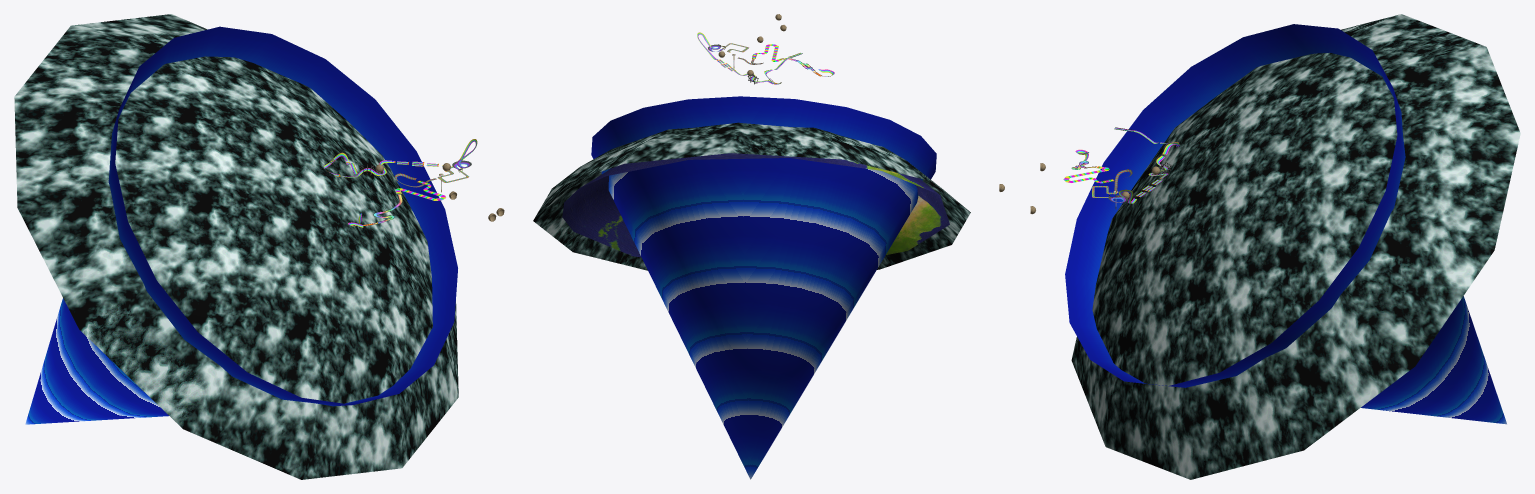
3 views of the same model, side by side, from view 1: azimuth 30°, elevation 25°; view 2: azimuth 150°, elevation 25°; view 3: azimuth 270°, elevation 25° (orthographic). The views are drawn at different scales.
Visible parts, largest first — view 1: Ctgp_RainbowRdDX_perm.003, Ctgp_RainbowRdDX_perm.002, Ctgp_RainbowRdDX.019; view 2: Ctgp_RainbowRdDX_perm.002, Ctgp_RainbowRdDX_perm.003, Ctgp_RainbowRdDX_perm, Ctgp_RainbowRdDX.019; view 3: Ctgp_RainbowRdDX_perm.003, Ctgp_RainbowRdDX_perm.002, Ctgp_RainbowRdDX.019.
Part boxes in pixels (bbox=[...]): Ctgp_RainbowRdDX_perm.003: bbox=[14, 14, 458, 479]; Ctgp_RainbowRdDX_perm.002: bbox=[25, 26, 457, 424]; Ctgp_RainbowRdDX.019: bbox=[324, 139, 477, 227]; Ctgp_RainbowRdDX_perm.002: bbox=[591, 96, 936, 479]; Ctgp_RainbowRdDX_perm.003: bbox=[533, 122, 970, 270]; Ctgp_RainbowRdDX_perm: bbox=[562, 153, 949, 257]; Ctgp_RainbowRdDX.019: bbox=[697, 32, 834, 84]; Ctgp_RainbowRdDX_perm.003: bbox=[1071, 14, 1520, 479]; Ctgp_RainbowRdDX_perm.002: bbox=[1065, 24, 1506, 424]; Ctgp_RainbowRdDX.019: bbox=[1075, 128, 1179, 203].
Size of the model in its own units: 442090 by 394713 by 451545.
Materials: 27 (27 with a texture image).
